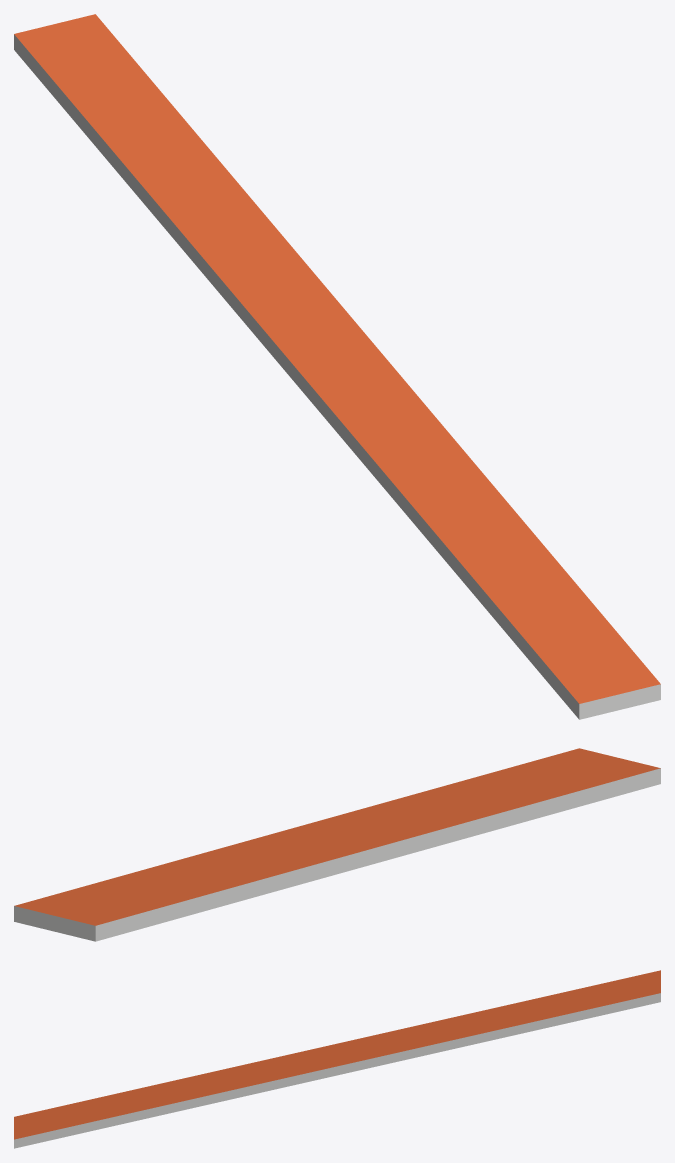
File: telhado_meia_agua_v6_i25_0_5m.glb
3 renders of one model, top to bottom at view 1: azimuth 30°, elevation 25°; view 2: azimuth 150°, elevation 25°; view 3: azimuth 270°, elevation 25°, orthographic. The views are drawn at different scales.
Visible parts, largest first — view 1: telhado_meia_agua_v6_i25_0_5m; view 2: telhado_meia_agua_v6_i25_0_5m; view 3: telhado_meia_agua_v6_i25_0_5m.
Part boxes in pixels (x1,y1,x2,y2): telhado_meia_agua_v6_i25_0_5m: [14, 14, 660, 719]; telhado_meia_agua_v6_i25_0_5m: [14, 748, 660, 941]; telhado_meia_agua_v6_i25_0_5m: [14, 970, 660, 1148].
Size of the model in its own units: 0.5 by 1.59 by 6.
